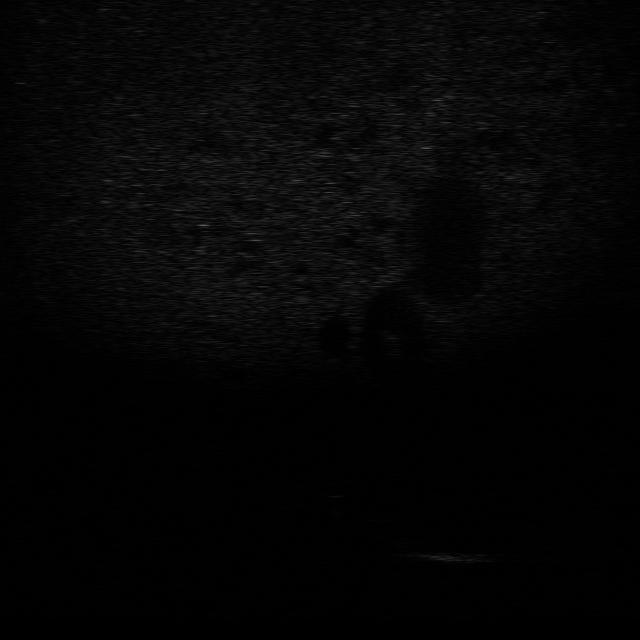ball: (314, 480, 354, 498)
metal bucket: (412, 544, 498, 569)
tyre: (362, 516, 428, 546)
